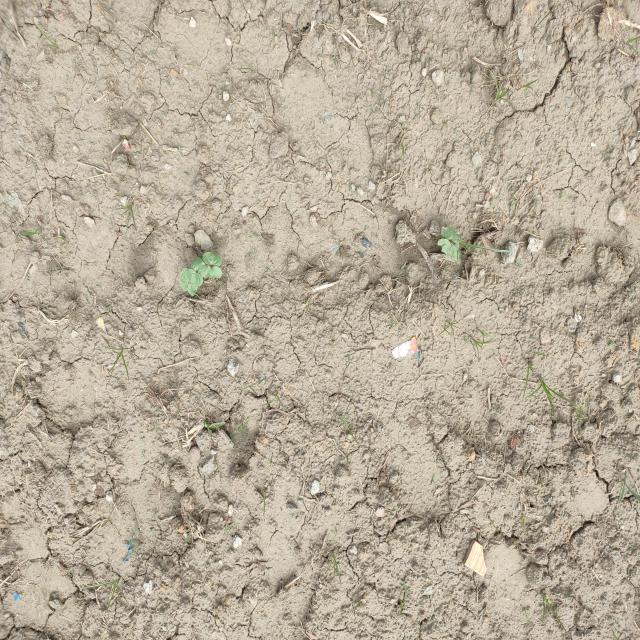seedling_s2: (438, 238, 456, 258), (191, 258, 208, 277), (441, 227, 461, 243), (202, 251, 222, 266), (187, 269, 203, 286), (206, 265, 222, 279), (180, 269, 189, 292), (188, 282, 198, 296)
